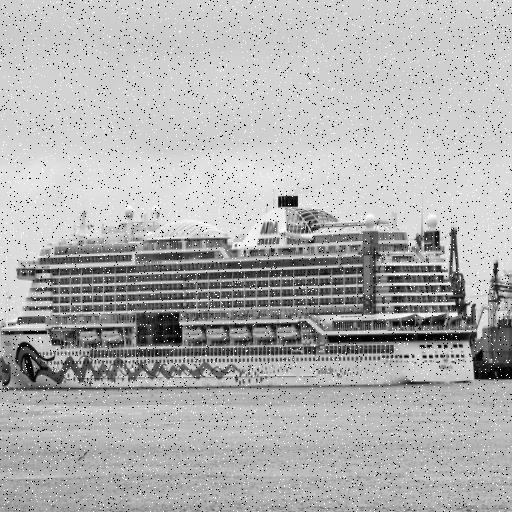cruises: (1, 192, 478, 400)
